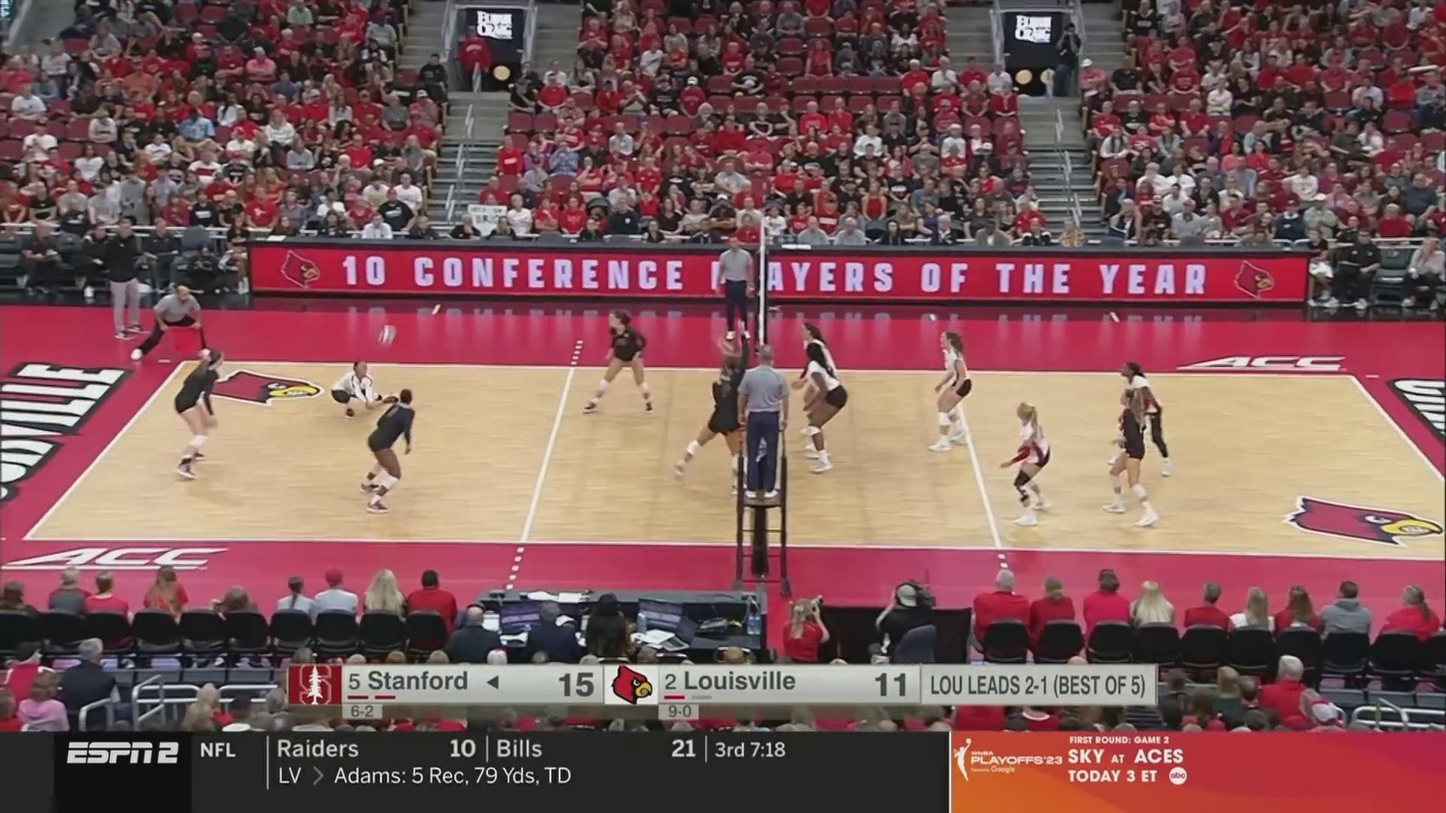player: (674, 356, 751, 487), (165, 351, 227, 481), (1107, 389, 1163, 528), (583, 314, 659, 414), (355, 389, 415, 512), (1108, 360, 1170, 478), (791, 316, 843, 453), (999, 404, 1057, 524), (923, 328, 978, 454), (801, 344, 848, 470), (332, 358, 402, 414)
refree: (735, 348, 790, 502), (132, 286, 213, 360), (717, 235, 757, 342)
